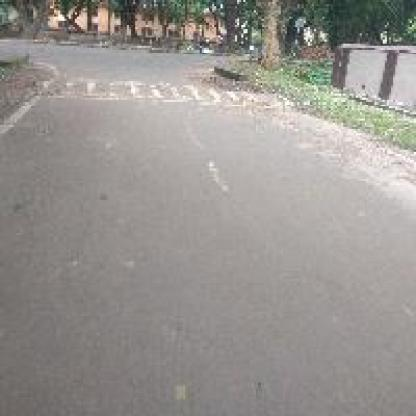Speed Bump: (42, 79, 252, 100)
